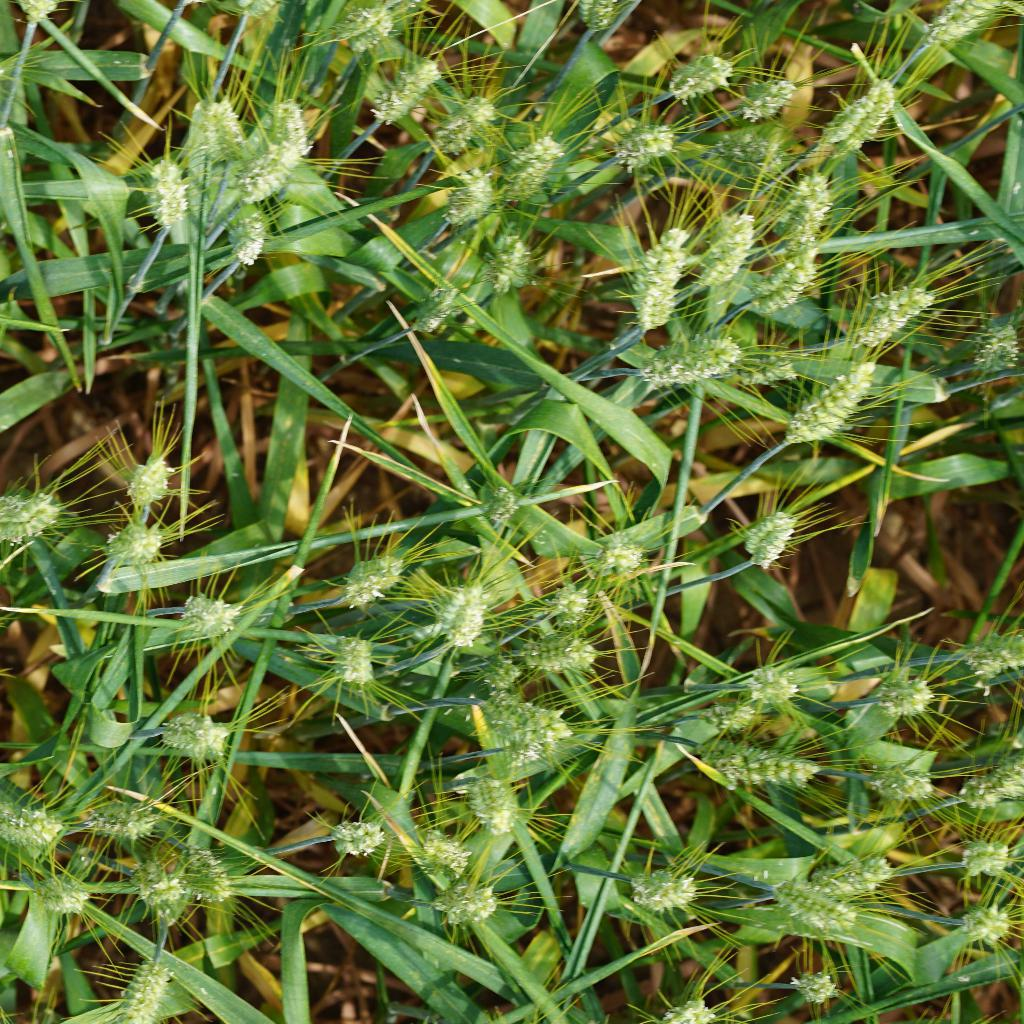0-0: (781, 354, 878, 467), (686, 732, 823, 796), (612, 219, 684, 335), (822, 268, 929, 346), (230, 109, 310, 202), (810, 75, 909, 150), (860, 658, 959, 731), (496, 126, 576, 215), (485, 228, 570, 311), (619, 331, 742, 388), (357, 47, 441, 130), (70, 787, 186, 847), (414, 575, 492, 661), (471, 680, 575, 742), (758, 157, 836, 239), (747, 240, 821, 325), (664, 36, 743, 109), (410, 82, 489, 154), (511, 621, 601, 681), (697, 202, 755, 294), (620, 849, 698, 916), (854, 754, 937, 815), (103, 960, 182, 1024), (137, 148, 194, 235), (593, 105, 675, 165), (417, 879, 515, 929), (0, 792, 82, 851), (959, 302, 1023, 376), (954, 744, 1024, 811), (807, 844, 897, 896), (733, 507, 795, 582), (772, 873, 852, 931), (462, 765, 530, 833), (940, 828, 1019, 886), (190, 90, 246, 171), (725, 122, 792, 189), (108, 443, 185, 501), (718, 63, 791, 123), (410, 828, 485, 886), (152, 713, 230, 768), (328, 555, 403, 612), (937, 628, 1024, 677), (299, 810, 384, 860), (464, 482, 534, 542), (925, 0, 1024, 42), (949, 900, 1011, 964), (306, 636, 374, 694), (325, 0, 393, 58), (522, 575, 591, 632), (21, 862, 103, 909), (0, 485, 59, 548), (179, 840, 235, 904), (732, 339, 803, 389), (175, 583, 240, 636), (407, 277, 460, 340), (583, 529, 645, 582), (452, 169, 505, 230), (221, 206, 269, 273), (729, 658, 802, 702), (124, 862, 183, 915), (100, 519, 160, 565), (789, 956, 837, 1008), (562, 0, 627, 34), (699, 695, 751, 735)
